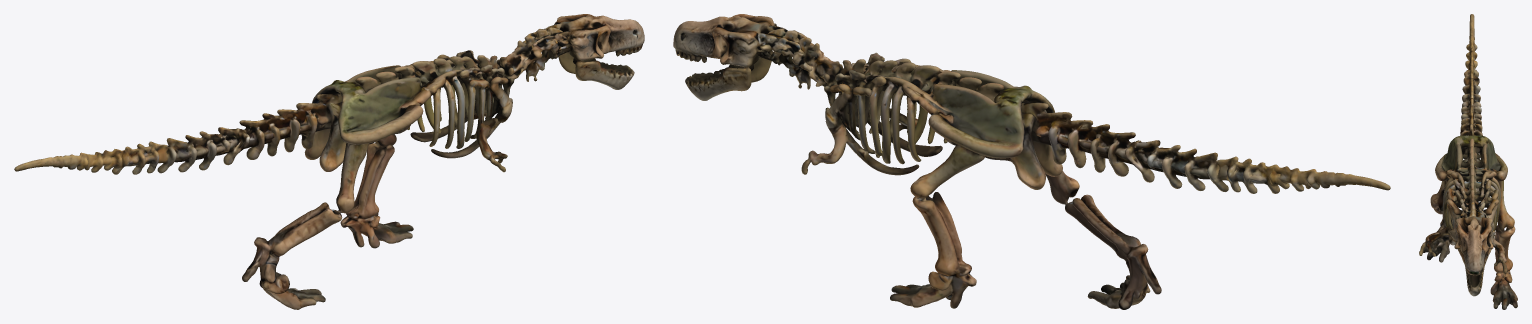
The model's file is building-museum-small.glb.
3 views of the same model, side by side, from view 1: azimuth 30°, elevation 25°; view 2: azimuth 150°, elevation 25°; view 3: azimuth 270°, elevation 25° (orthographic). The views are drawn at different scales.
Visible parts, largest first — view 1: tripo_node_51bbcfaf-2343-4f89-ae16-8e0e6104ebaa; view 2: tripo_node_51bbcfaf-2343-4f89-ae16-8e0e6104ebaa; view 3: tripo_node_51bbcfaf-2343-4f89-ae16-8e0e6104ebaa.
Boxes of the visible parts, box(x1,y1,x2,y2) form: tripo_node_51bbcfaf-2343-4f89-ae16-8e0e6104ebaa: box(14, 14, 644, 309); tripo_node_51bbcfaf-2343-4f89-ae16-8e0e6104ebaa: box(673, 14, 1390, 309); tripo_node_51bbcfaf-2343-4f89-ae16-8e0e6104ebaa: box(1419, 14, 1517, 309).
Size of the model in its own units: 30.72 by 9 by 5.4.
1 material, 1 textured.
